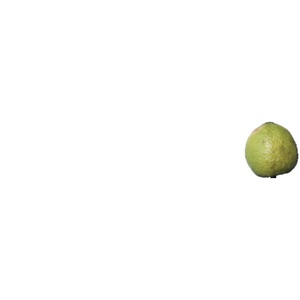limão: (245, 122, 299, 179)
